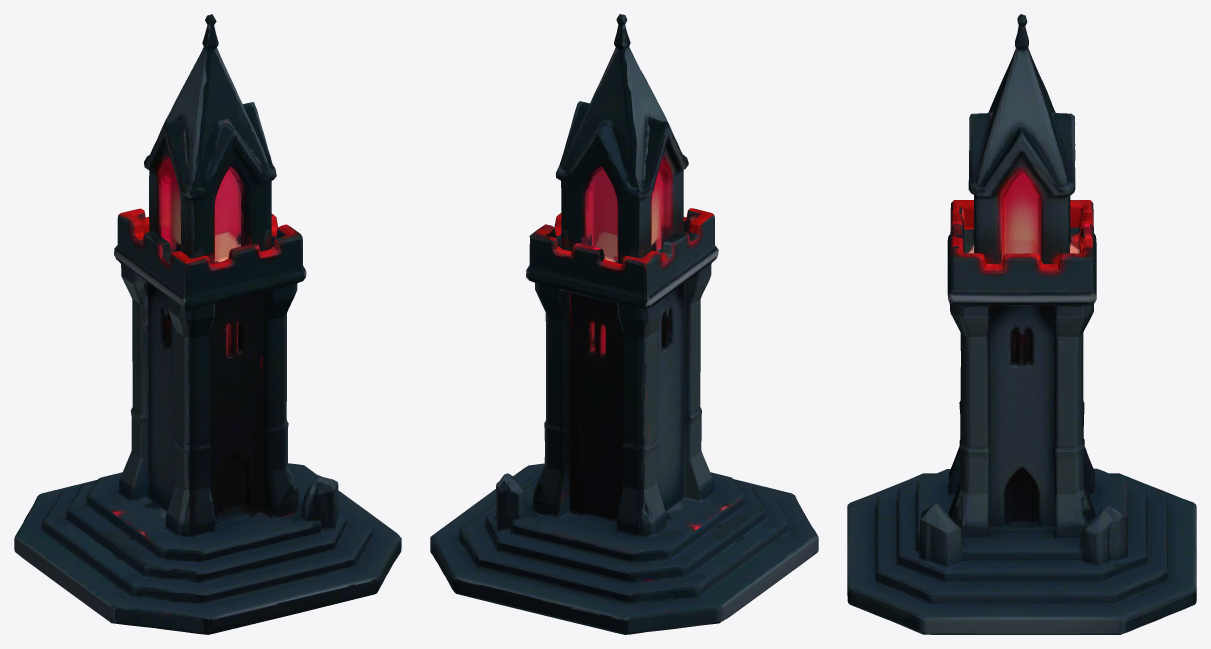
File: tower.glb
The picture shows the model from 3 angles, left to right: view 1: azimuth 30°, elevation 25°; view 2: azimuth 150°, elevation 25°; view 3: azimuth 270°, elevation 25°; orthographic projection. The views are drawn at different scales.
Bounding box in the file's own units: 1.12 × 1.98 × 1.14.
Materials: 1 (1 with a texture image).
